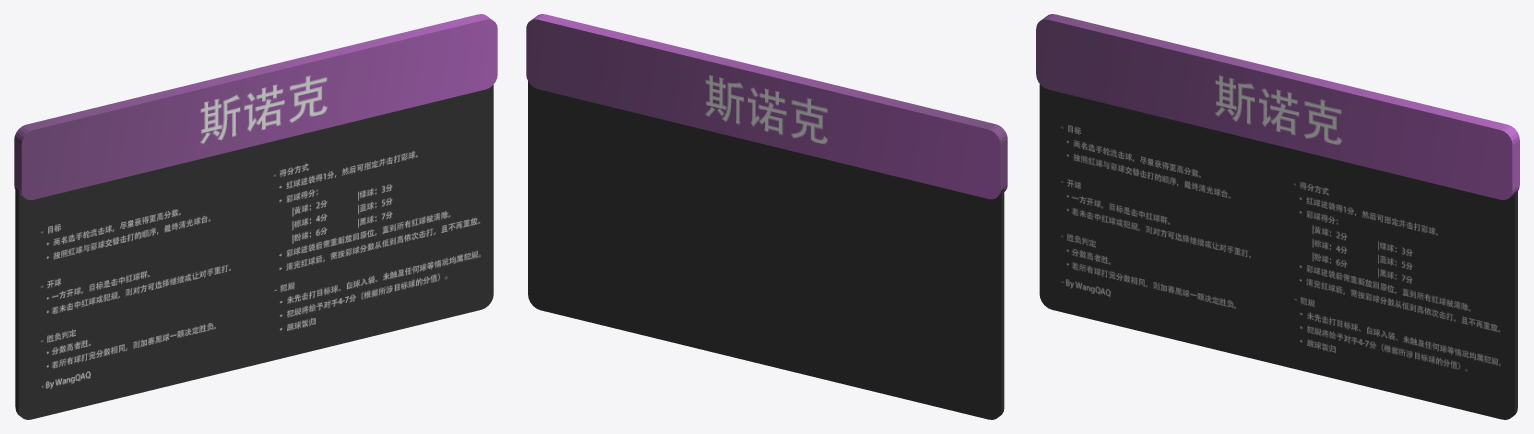
The model's file is menu_snk_controls.fbx.
3 views of the same model, side by side, from view 1: azimuth 30°, elevation 25°; view 2: azimuth 150°, elevation 25°; view 3: azimuth 330°, elevation 25° (orthographic).
Parts seen in each view (by area): view 1: menu_snk_controls; view 2: menu_snk_controls; view 3: menu_snk_controls.
Part boxes in pixels (x1,y1,x2,y2): menu_snk_controls: (14, 14, 497, 419); menu_snk_controls: (526, 14, 1007, 419); menu_snk_controls: (1036, 14, 1519, 419).
Size of the model in its own units: 175 by 4.69 by 103.
